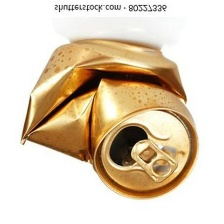can: (16, 37, 201, 203)
